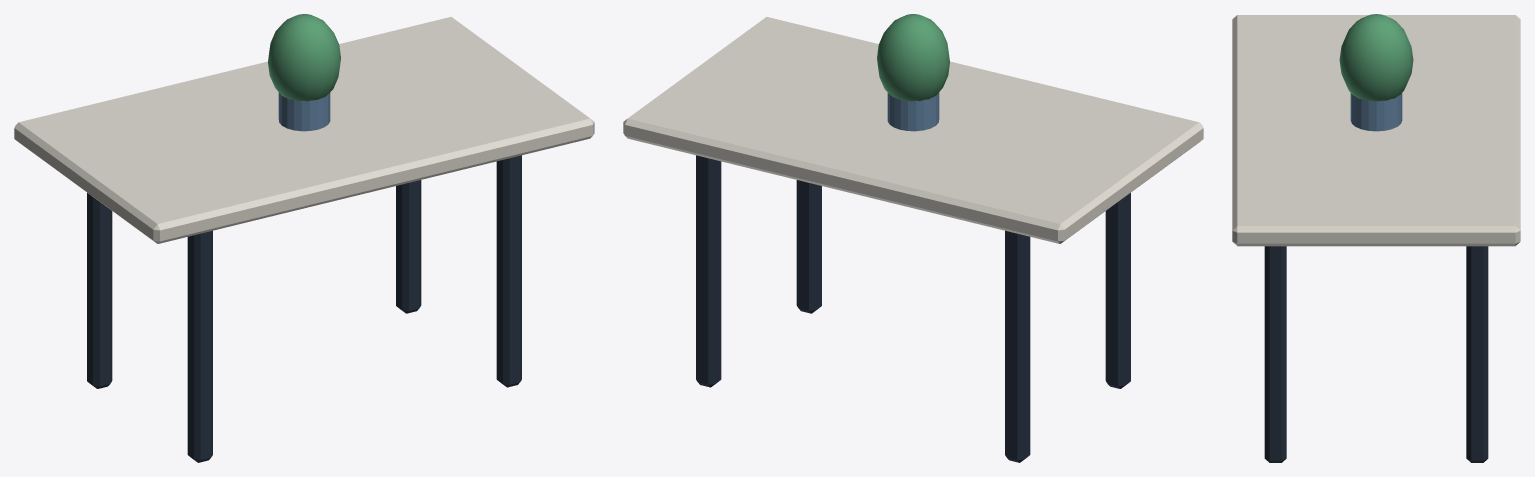
The model's file is restaurant_08.glb.
The picture shows the model from 3 angles, left to right: view 1: azimuth 30°, elevation 25°; view 2: azimuth 150°, elevation 25°; view 3: azimuth 270°, elevation 25°; orthographic projection.
Visible parts, largest first — view 1: DiningTop, Leg (×4), Plant, PlantPot; view 2: DiningTop, Leg (×4), Plant, PlantPot; view 3: DiningTop, Leg (×2), Plant, PlantPot.
Part boxes in pixels (x1,y1,x2,y2): DiningTop: [14, 16, 594, 243]; Leg (×4): [87, 155, 521, 462]; Plant: [268, 14, 340, 101]; PlantPot: [278, 92, 330, 131]; DiningTop: [623, 16, 1203, 243]; Leg (×4): [696, 155, 1130, 462]; Plant: [877, 14, 949, 101]; PlantPot: [887, 92, 939, 131]; DiningTop: [1232, 15, 1520, 246]; Leg (×2): [1264, 246, 1488, 462]; Plant: [1339, 14, 1413, 101]; PlantPot: [1350, 93, 1402, 131].
Size of the model in its own units: 1.38 by 1.1 by 0.78.
